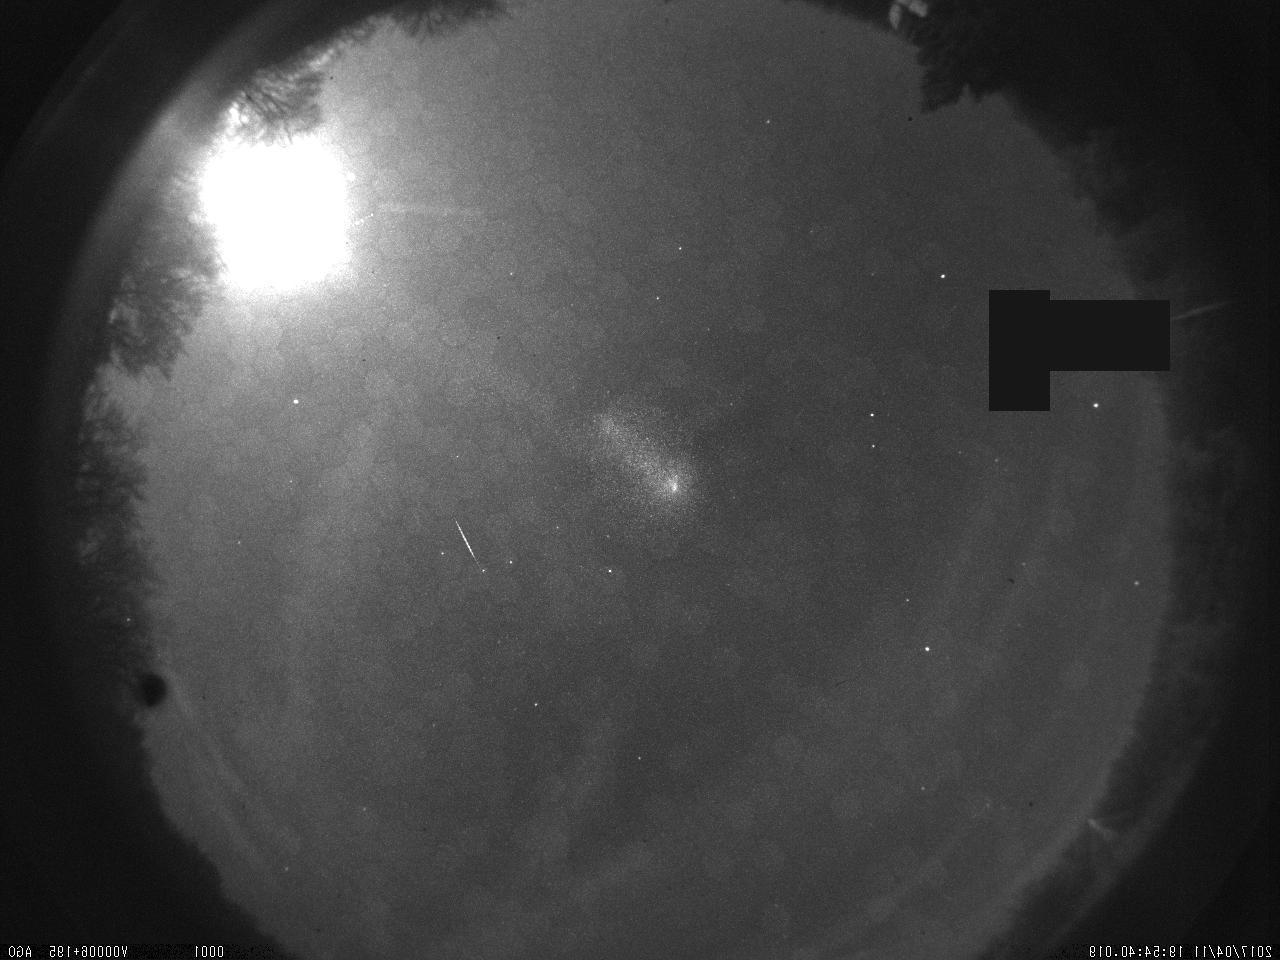meteor: (430, 503, 489, 592)
